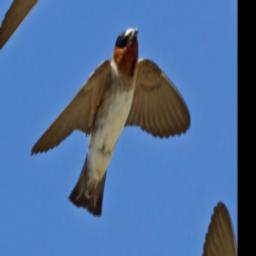Swallow: (27, 0, 196, 256)
